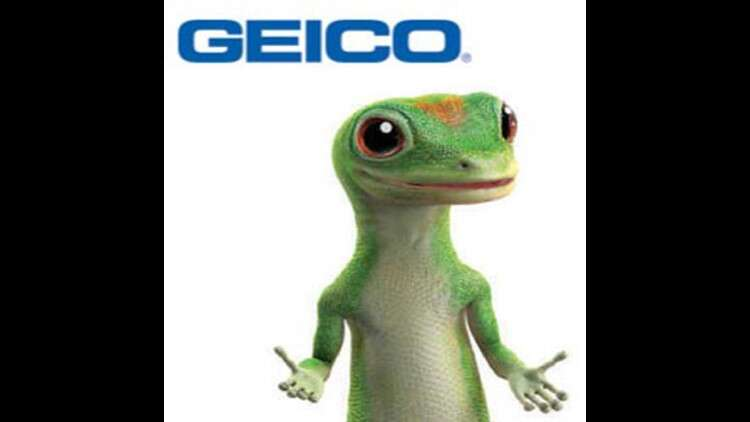Geico: (176, 14, 474, 70)
